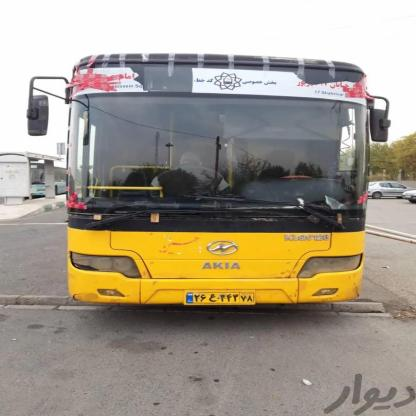Bus: (47, 52, 376, 314)
Car: (374, 171, 401, 208)
